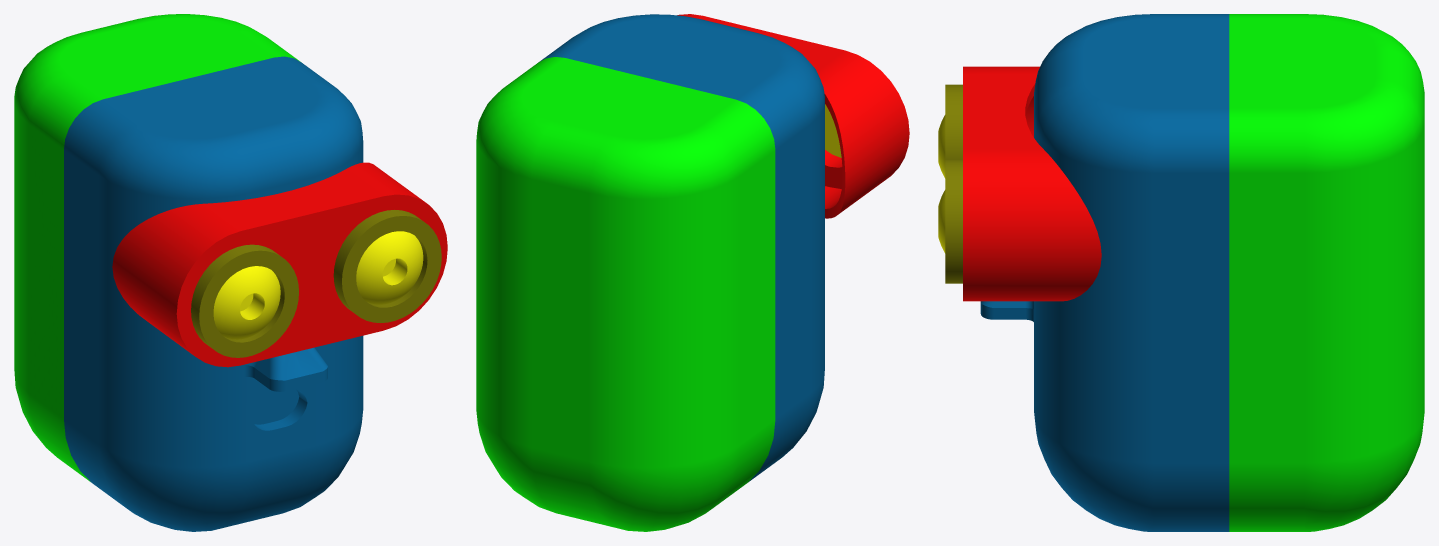
The model's file is robot.glb.
3 renders of one model, left to right at view 1: azimuth 30°, elevation 25°; view 2: azimuth 150°, elevation 25°; view 3: azimuth 270°, elevation 25°, orthographic. The views are drawn at different scales.
Visible parts, largest first — view 1: Body20, Body17, Body8, Body10, Body14, Body18, Body6; view 2: Body17, Body20, Body8, Body18; view 3: Body17, Body20, Body8, Body10, Body14.
Part boxes in pixels (x1,y1,x2,y2): Body20: (64,56,363,531); Body17: (14,14,300,481); Body8: (112,162,447,367); Body10: (333,210,441,322); Body14: (191,244,298,357); Body18: (213,266,280,339); Body6: (356,231,423,304); Body17: (476,57,775,531); Body20: (538,14,824,482); Body8: (677,14,909,218); Body18: (825,104,841,157); Body17: (1229,14,1424,531); Body20: (980,14,1229,531); Body8: (963,66,1101,301); Body10: (945,159,962,283); Body14: (945,84,962,159).
Size of the model in its own units: 0.38 by 0.55 by 0.5479.
